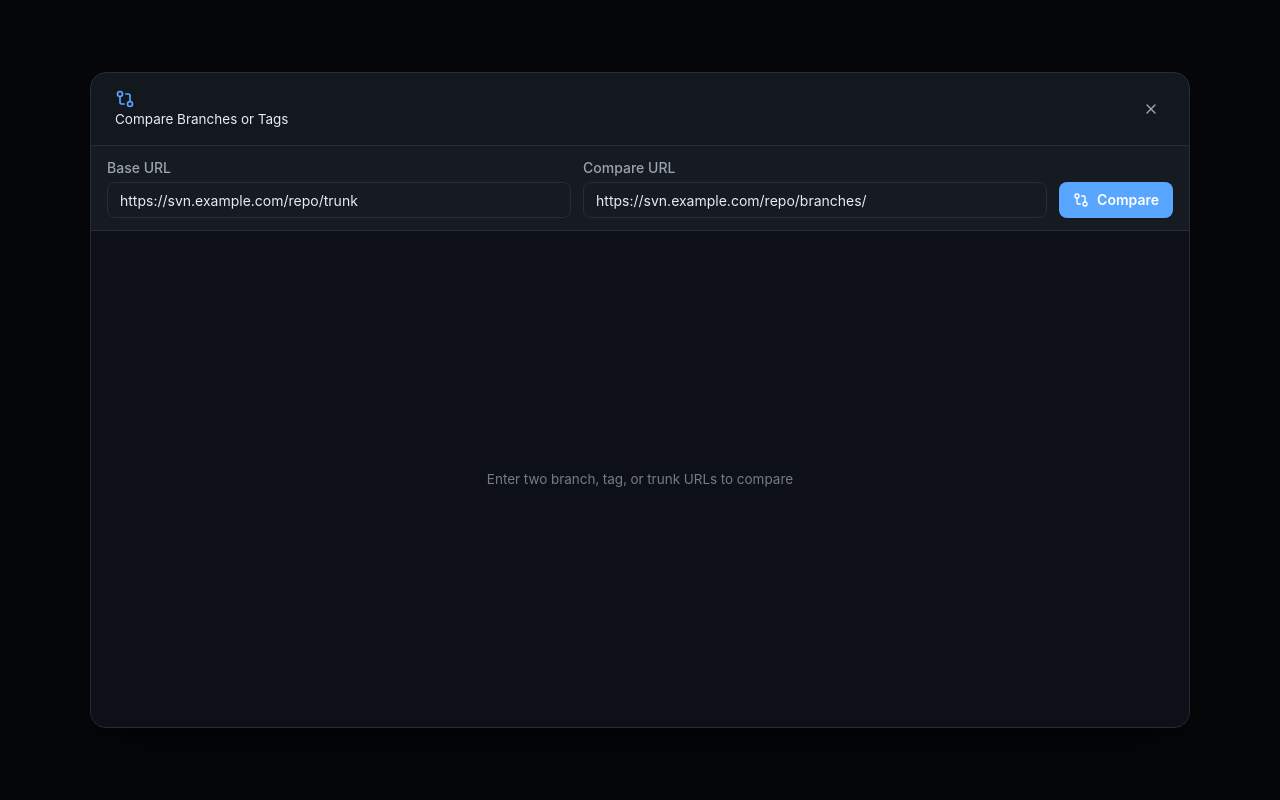
Test case: BranchTagCompareDialog › compares the entered repository URLs
Expected: the field showing "https://svn.example.com/repo/trunk" is shown, [107,182,571,218]
Replace the text in the field labelled "Compare URL" with "https://svn.example.com/repo/branches/feature": (815, 200) [583,182,1047,218]
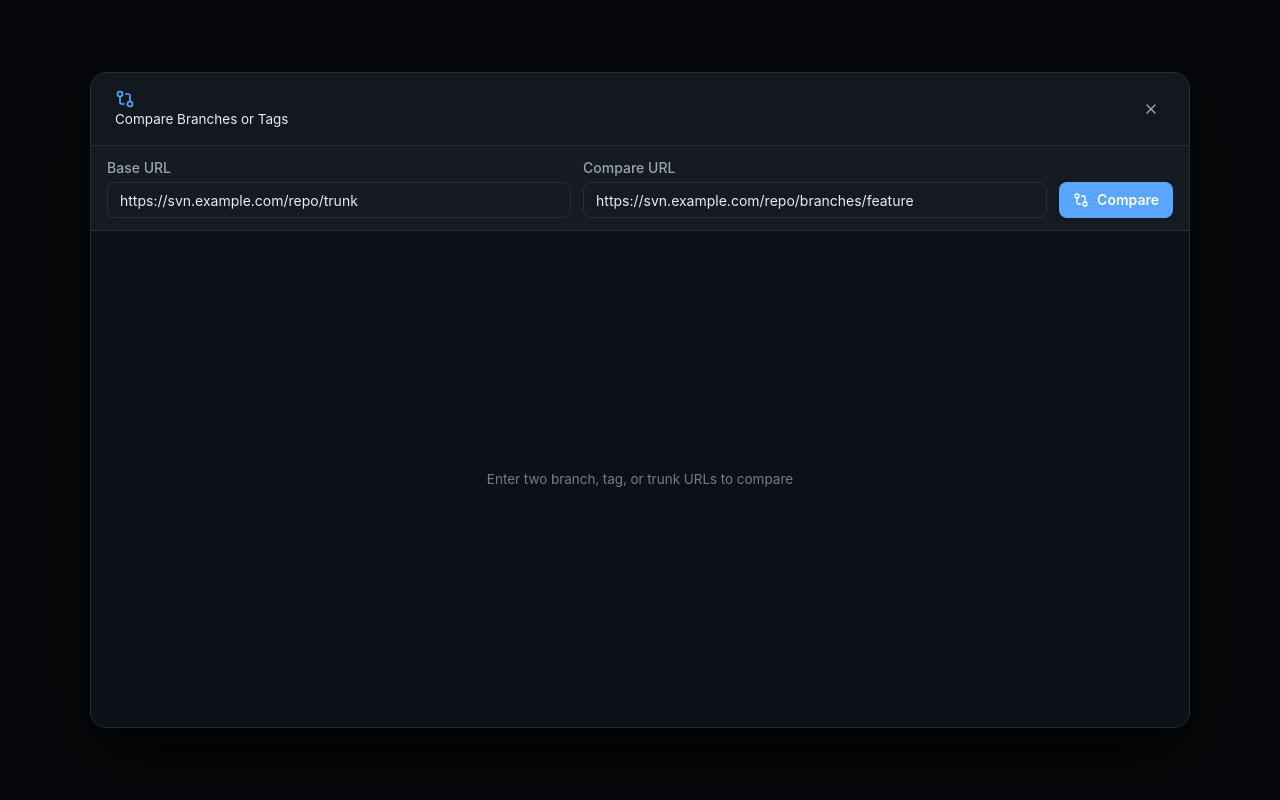
Click the button "Compare": (1116, 200) [1059,182,1173,218]
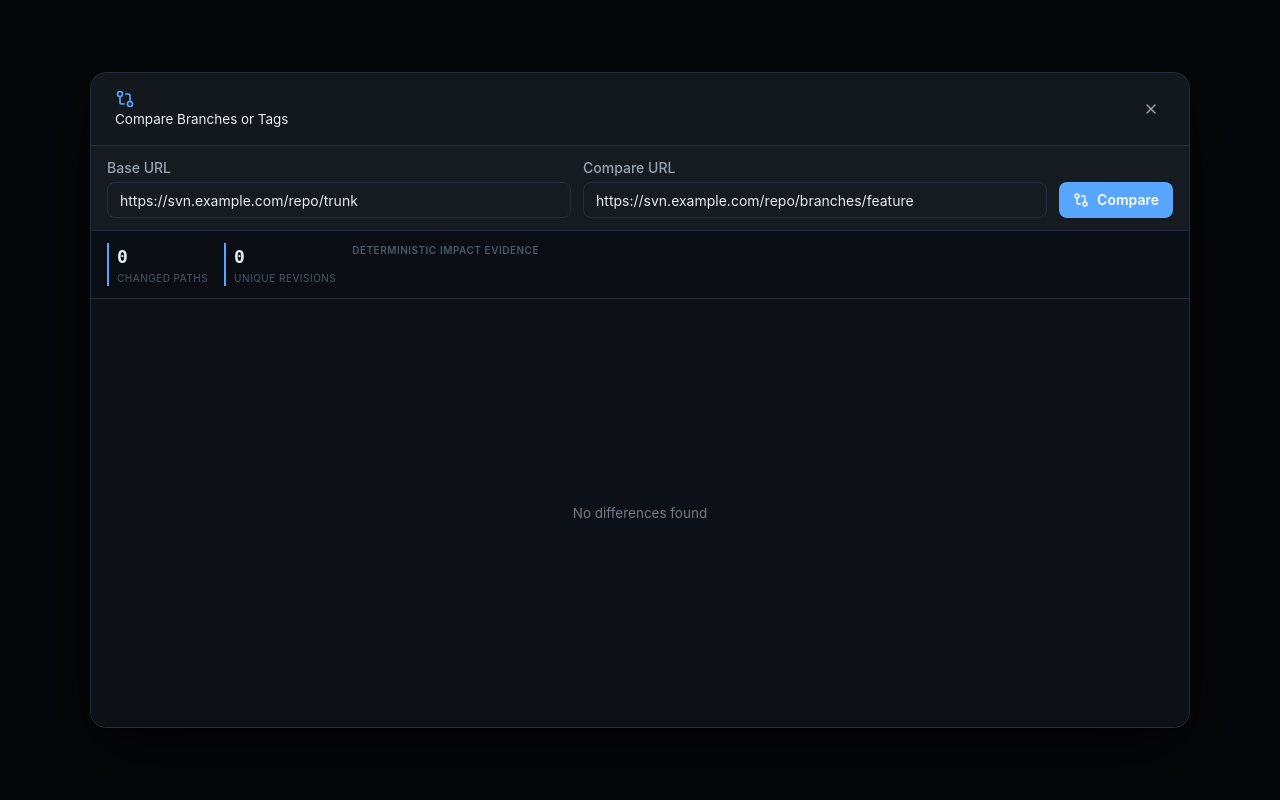
Now the text "No differences found" is shown, box [573,505,707,521]
